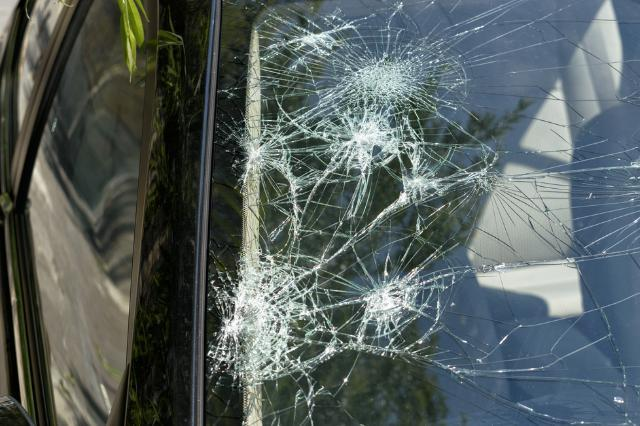Windshield: (212, 16, 640, 426)
